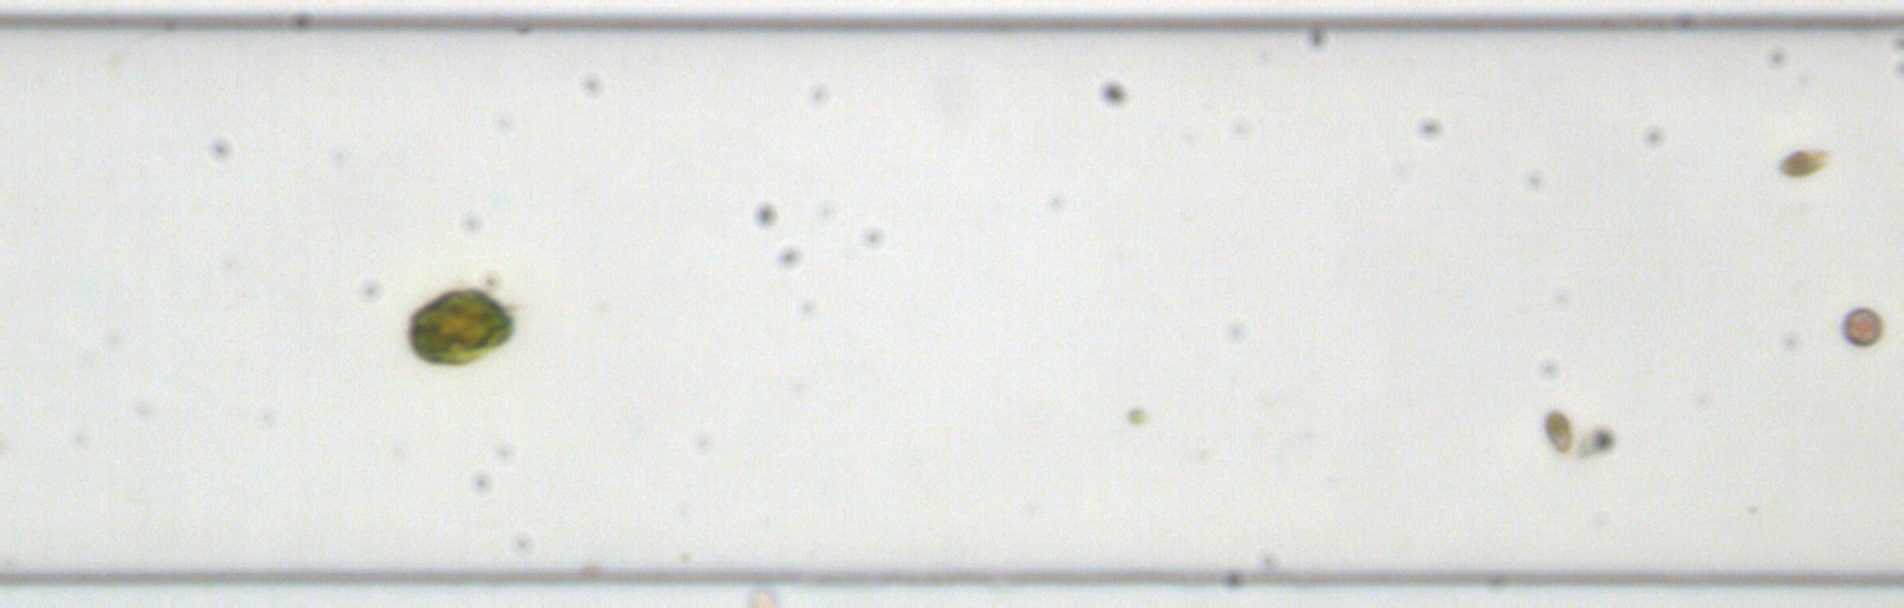Chlorella: (1124, 407, 1144, 425)
Dunaliella salina: (1774, 143, 1830, 178), (1542, 407, 1576, 455)
Haematococcus: (401, 286, 516, 370)
Porphyridium: (1837, 303, 1885, 348)
